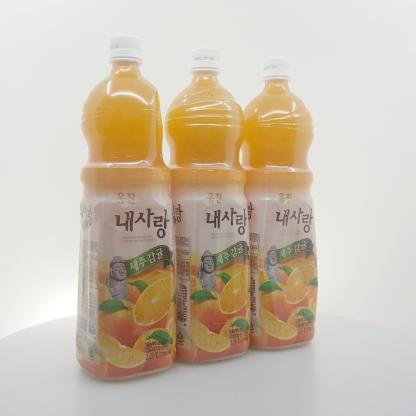----------1-5L: (75, 35, 177, 381), (163, 47, 251, 363), (240, 57, 318, 350)
